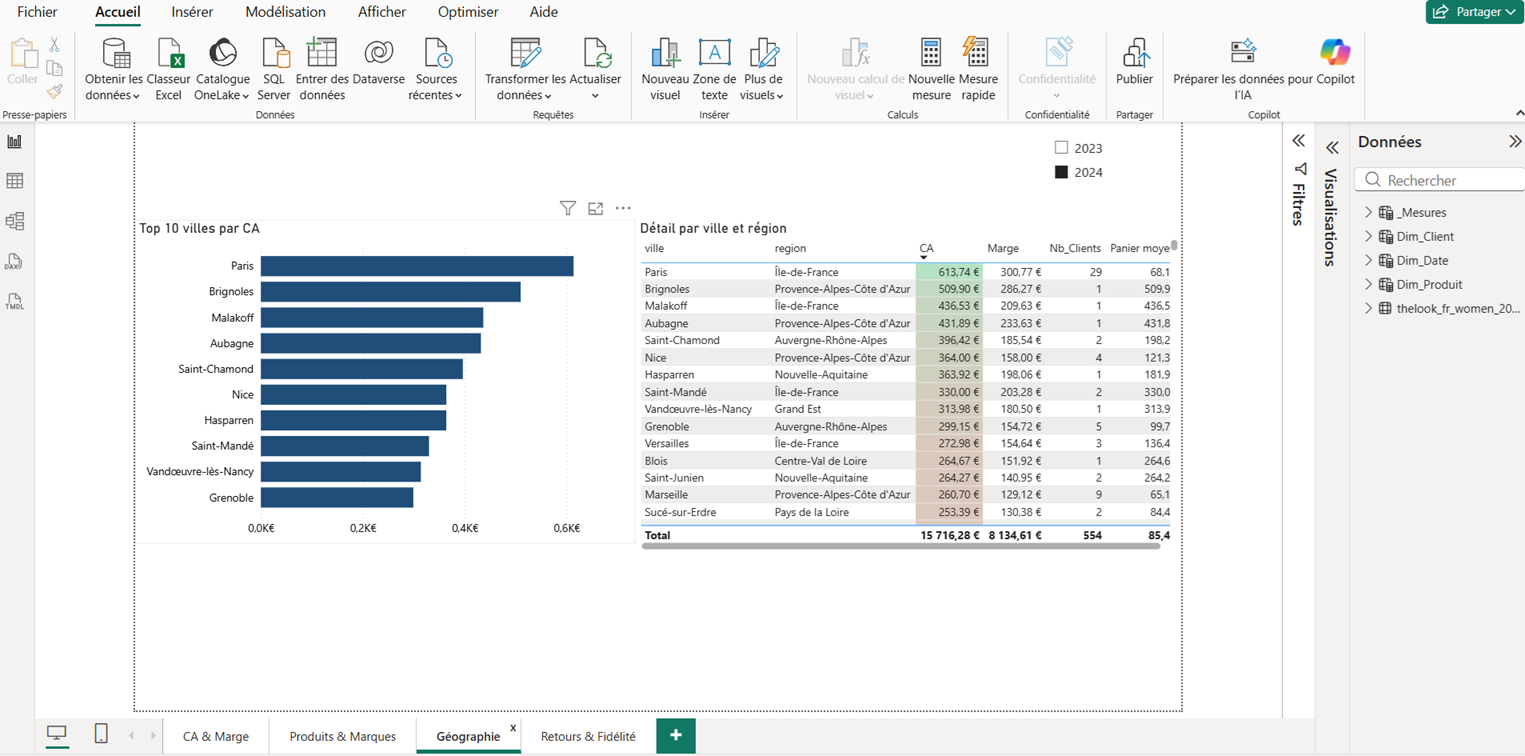

This screenshot's page, from the dashboard's own definition file:
{"tool":"powerbi","page":{"name":"Géographie","canvas":[1280,720],"ordinal":2},"visuals":[{"type":"slicer","fields":{"Values":["Dim_Date.Année","Dim_Date.Année"]},"box":[1088.8,12.2,181.9,82.8],"z":0},{"type":"clusteredBarChart","title":"Top 10 villes par CA","fields":{"Category":["Dim_Client.ville"],"Y":["_Mesures.CA"]},"box":[0,119.5,612.3,396.4],"z":1000},{"type":"tableEx","title":"Détail par ville et région","fields":{"Values":["Dim_Client.ville","Dim_Client.region","_Mesures.CA","_Mesures.Marge","_Mesures.Nb_Clients","_Mesures.Panier moyen"]},"box":[612.3,119.5,668,408.7],"z":2000}]}

Visuals, with their boxes on the page's 1280x720 design canvas (x1, y1, x2, y2). These are canvas units, not pixel positions in the 1525x756 screenshot, which may show the page scaled, cropped or inside an application window:
slicer - Dim_Date.Année x Dim_Date.Année: 1089,12,1271,95
"Top 10 villes par CA" clusteredBarChart: 0,120,612,516
"Détail par ville et région" tableEx: 612,120,1280,528
